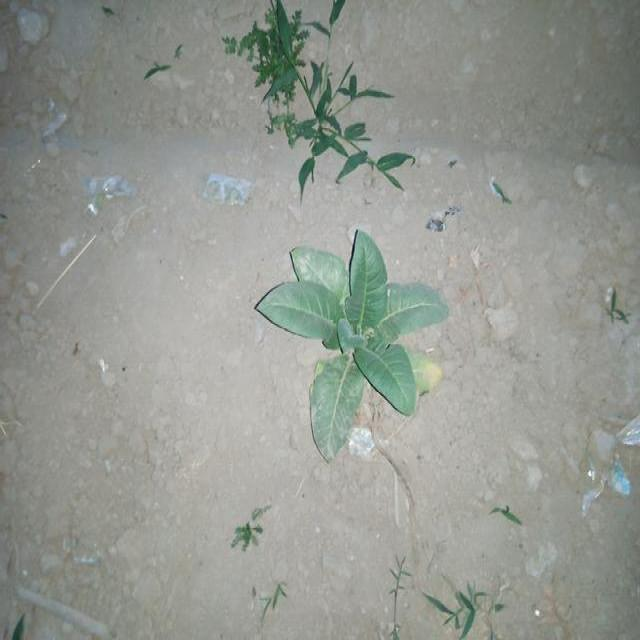crop: (260, 230, 444, 452)
